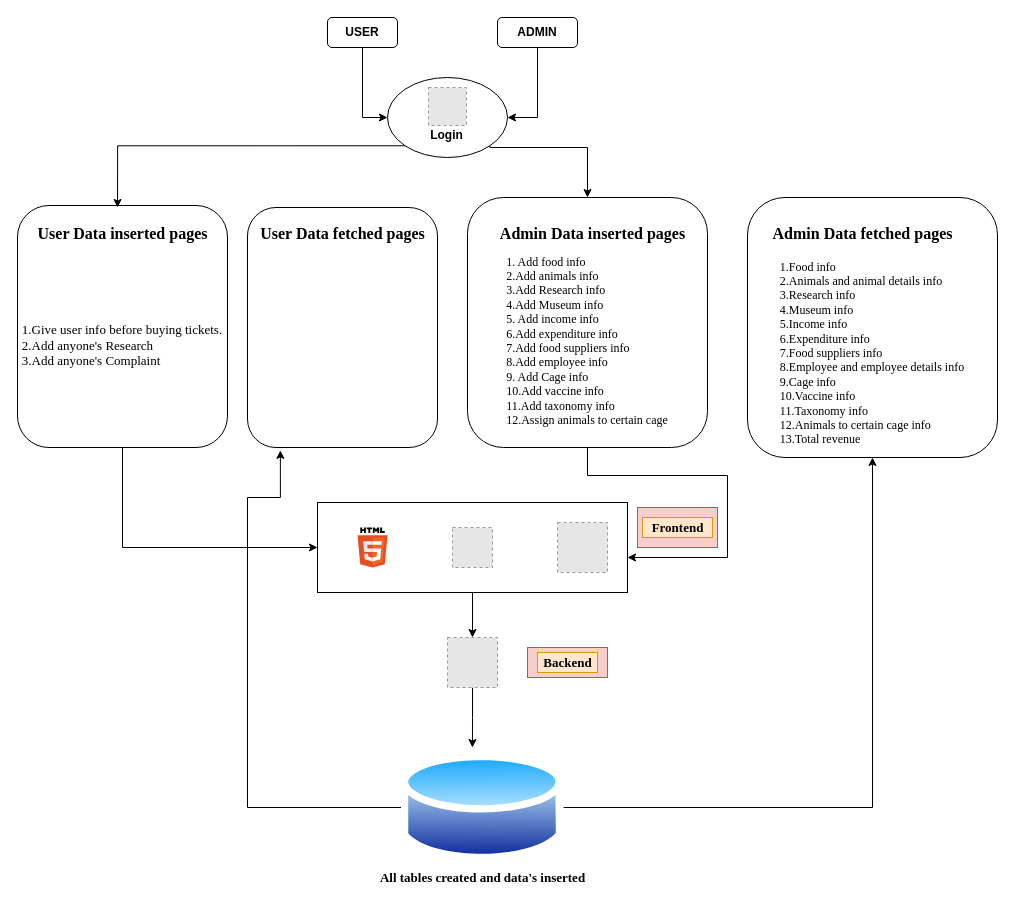
Image size: 1015x905. Some labels were removed from this diagram. Grey dashed boxes stand in for pictures. Here are the shapes that lost their labels. From the top down, the box of each, then its label:
(246, 206, 438, 448): 1. Information about present animals
(401, 747, 563, 867): Database
